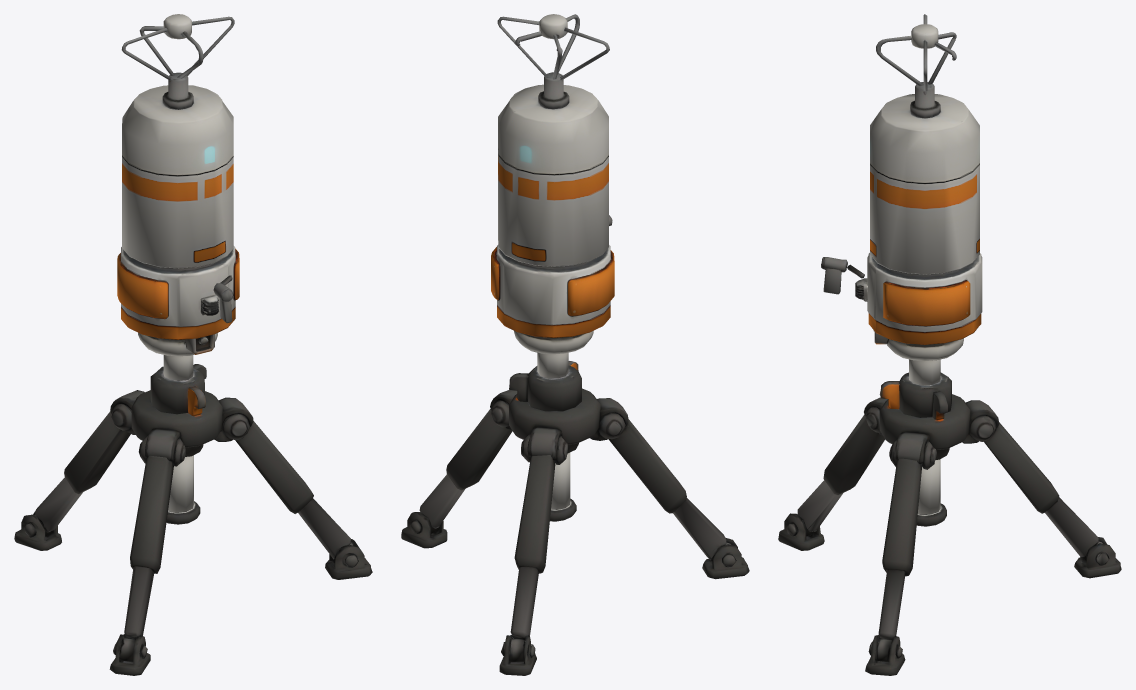
The model's file is survey_beacon.glb.
3 renders of one model, left to right at view 1: azimuth 30°, elevation 25°; view 2: azimuth 150°, elevation 25°; view 3: azimuth 270°, elevation 25°, orthographic.
Parts seen in each view (by area): view 1: Survey beacon; view 2: Survey beacon; view 3: Survey beacon.
Part boxes in pixels (bbox=[...]): Survey beacon: bbox=[14, 14, 372, 675]; Survey beacon: bbox=[401, 14, 749, 675]; Survey beacon: bbox=[778, 14, 1121, 675].
Size of the model in its own units: 0.5488 by 0.998 by 0.5488.
1 material, 1 textured.
